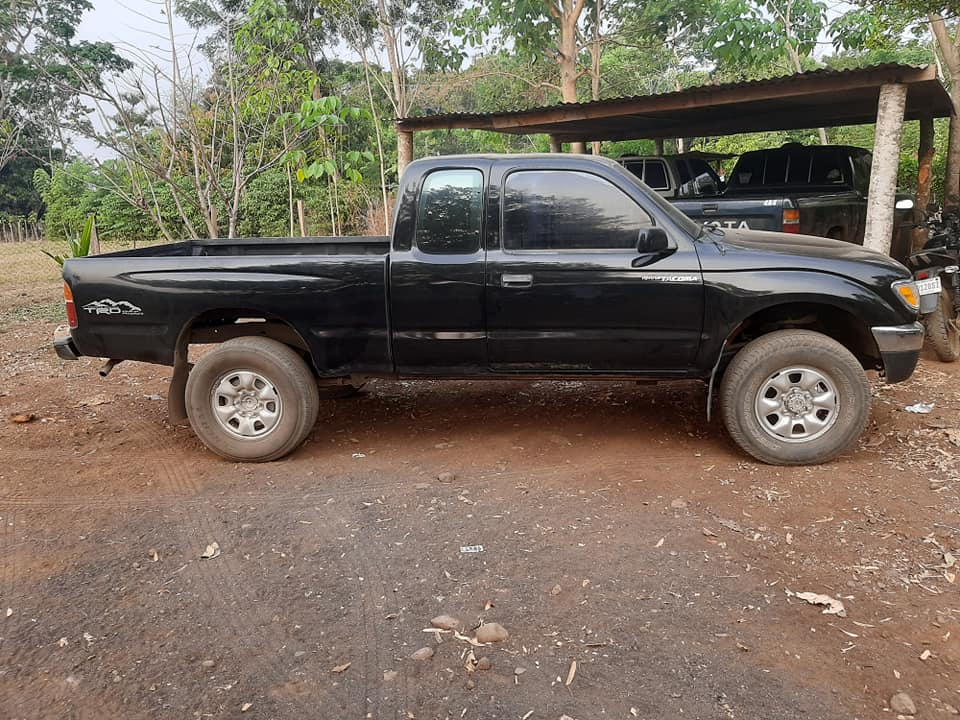pickup: (50, 151, 925, 470), (679, 148, 867, 239)
